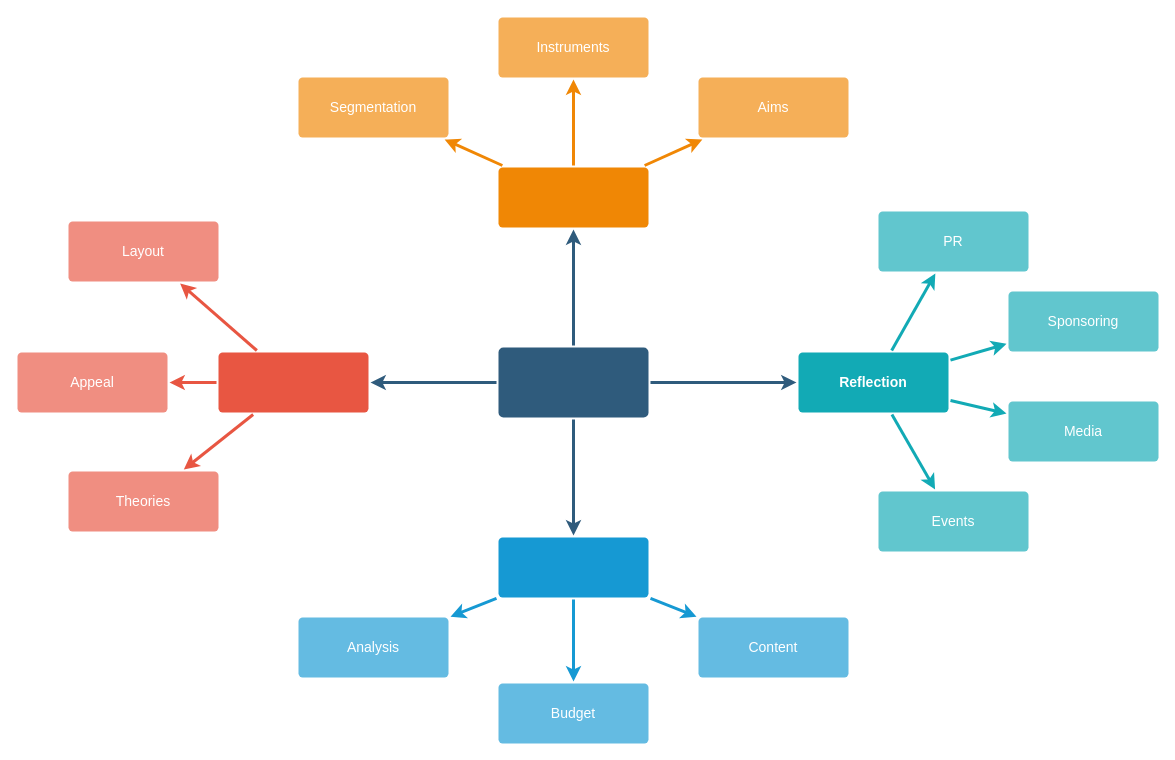
This 1175x760 diagram has some shape labels left out. Each missing label, with the box of its shape:
Optical Instruments: (498, 167, 648, 227)
Optics: (498, 347, 648, 417)
Organization: (498, 537, 648, 597)
Refraction: (218, 352, 368, 412)
